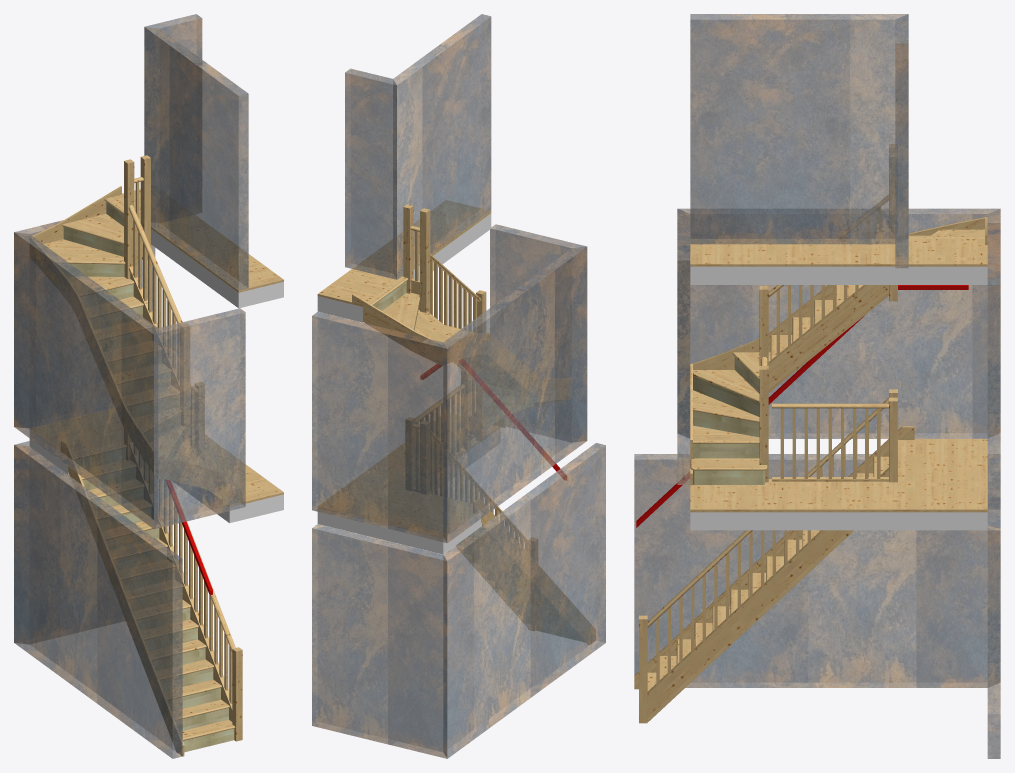
3 views of the same model, side by side, from view 1: azimuth 30°, elevation 25°; view 2: azimuth 150°, elevation 25°; view 3: azimuth 270°, elevation 25° (orthographic). The views are drawn at different scales.
Parts seen in each view (by area): view 1: _x0023_BEGIN_WALLwallpaper4.jpg1110.3, _x0023_TREADcon_PineKn1800.jpg1111, _x0023_RISERBirch.jpg1111 (×2), _x0023_STRINGcon_PineKn1800.jpg1111 (×2), _x0023_BEGIN_PLATFORMcon_PineKn1800.jpg1111 (×2), _x0023_BALUSTERcon_PineKn1800.jpg1111, _x0023_POSTcon_PineKn1800.jpg1111, _x0023_BEGIN_PLATFORM0.90.90.91 (×2), _x0023_BOTTOMRAILcon_PineKn1800.jpg1111, _x0023_HANDRAILcon_PineKn1800.jpg1111, _x0023_HANDRAIL0.6001; view 2: _x0023_BEGIN_WALLwallpaper4.jpg1110.3, _x0023_BEGIN_PLATFORMcon_PineKn1800.jpg1111 (×2), _x0023_STRINGcon_PineKn1800.jpg1111 (×2), _x0023_RISERBirch.jpg1111 (×2), _x0023_POSTcon_PineKn1800.jpg1111, _x0023_BALUSTERcon_PineKn1800.jpg1111, _x0023_BEGIN_PLATFORM0.90.90.91 (×2), _x0023_TREADcon_PineKn1800.jpg1111, _x0023_HANDRAILcon_PineKn1800.jpg1111, _x0023_HANDRAIL0.6001; view 3: _x0023_BEGIN_WALLwallpaper4.jpg1110.3, _x0023_BEGIN_PLATFORMcon_PineKn1800.jpg1111 (×2), _x0023_STRINGcon_PineKn1800.jpg1111 (×2), _x0023_BEGIN_PLATFORM0.90.90.91 (×2), _x0023_TREADcon_PineKn1800.jpg1111, _x0023_BALUSTERcon_PineKn1800.jpg1111, _x0023_RISERBirch.jpg1111 (×2), _x0023_POSTcon_PineKn1800.jpg1111, _x0023_HANDRAILcon_PineKn1800.jpg1111, _x0023_BOTTOMRAILcon_PineKn1800.jpg1111, _x0023_HANDRAIL0.6001.
Part boxes in pixels (x1,y1,x2,y2): _x0023_BEGIN_WALLwallpaper4.jpg1110.3: [14, 14, 248, 758]; _x0023_TREADcon_PineKn1800.jpg1111: [40, 197, 239, 740]; _x0023_RISERBirch.jpg1111 (×2): [56, 202, 237, 752]; _x0023_STRINGcon_PineKn1800.jpg1111 (×2): [30, 186, 242, 756]; _x0023_BEGIN_PLATFORMcon_PineKn1800.jpg1111 (×2): [30, 189, 283, 506]; _x0023_BALUSTERcon_PineKn1800.jpg1111: [133, 182, 232, 703]; _x0023_POSTcon_PineKn1800.jpg1111: [124, 155, 242, 741]; _x0023_BEGIN_PLATFORM0.90.90.91 (×2): [29, 229, 283, 523]; _x0023_BOTTOMRAILcon_PineKn1800.jpg1111: [129, 232, 232, 712]; _x0023_HANDRAILcon_PineKn1800.jpg1111: [128, 177, 235, 652]; _x0023_HANDRAIL0.6001: [166, 480, 212, 594]; _x0023_BEGIN_WALLwallpaper4.jpg1110.3: [312, 14, 605, 758]; _x0023_BEGIN_PLATFORMcon_PineKn1800.jpg1111 (×2): [317, 200, 499, 538]; _x0023_STRINGcon_PineKn1800.jpg1111 (×2): [352, 282, 595, 644]; _x0023_RISERBirch.jpg1111 (×2): [373, 281, 584, 641]; _x0023_POSTcon_PineKn1800.jpg1111: [403, 204, 537, 630]; _x0023_BALUSTERcon_PineKn1800.jpg1111: [415, 231, 528, 552]; _x0023_BEGIN_PLATFORM0.90.90.91 (×2): [317, 213, 500, 554]; _x0023_TREADcon_PineKn1800.jpg1111: [367, 276, 476, 505]; _x0023_HANDRAILcon_PineKn1800.jpg1111: [410, 226, 533, 548]; _x0023_HANDRAIL0.6001: [420, 359, 566, 480]; _x0023_BEGIN_WALLwallpaper4.jpg1110.3: [634, 14, 1000, 758]; _x0023_BEGIN_PLATFORMcon_PineKn1800.jpg1111 (×2): [690, 239, 987, 512]; _x0023_STRINGcon_PineKn1800.jpg1111 (×2): [634, 217, 987, 721]; _x0023_BEGIN_PLATFORM0.90.90.91 (×2): [690, 266, 987, 530]; _x0023_TREADcon_PineKn1800.jpg1111: [647, 229, 984, 691]; _x0023_BALUSTERcon_PineKn1800.jpg1111: [656, 207, 880, 684]; _x0023_RISERBirch.jpg1111 (×2): [693, 357, 764, 484]; _x0023_POSTcon_PineKn1800.jpg1111: [639, 144, 897, 723]; _x0023_HANDRAILcon_PineKn1800.jpg1111: [647, 195, 888, 627]; _x0023_BOTTOMRAILcon_PineKn1800.jpg1111: [647, 285, 888, 696]; _x0023_HANDRAIL0.6001: [636, 285, 968, 527].
Size of what is drawn, in the model's own units: 2.02 by 8.44 by 3.9.
11 materials, 9 textured.
